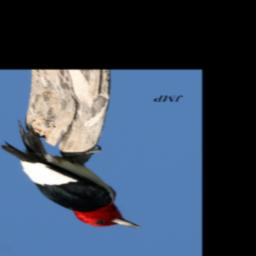Woodpecker: (0, 119, 145, 229)
